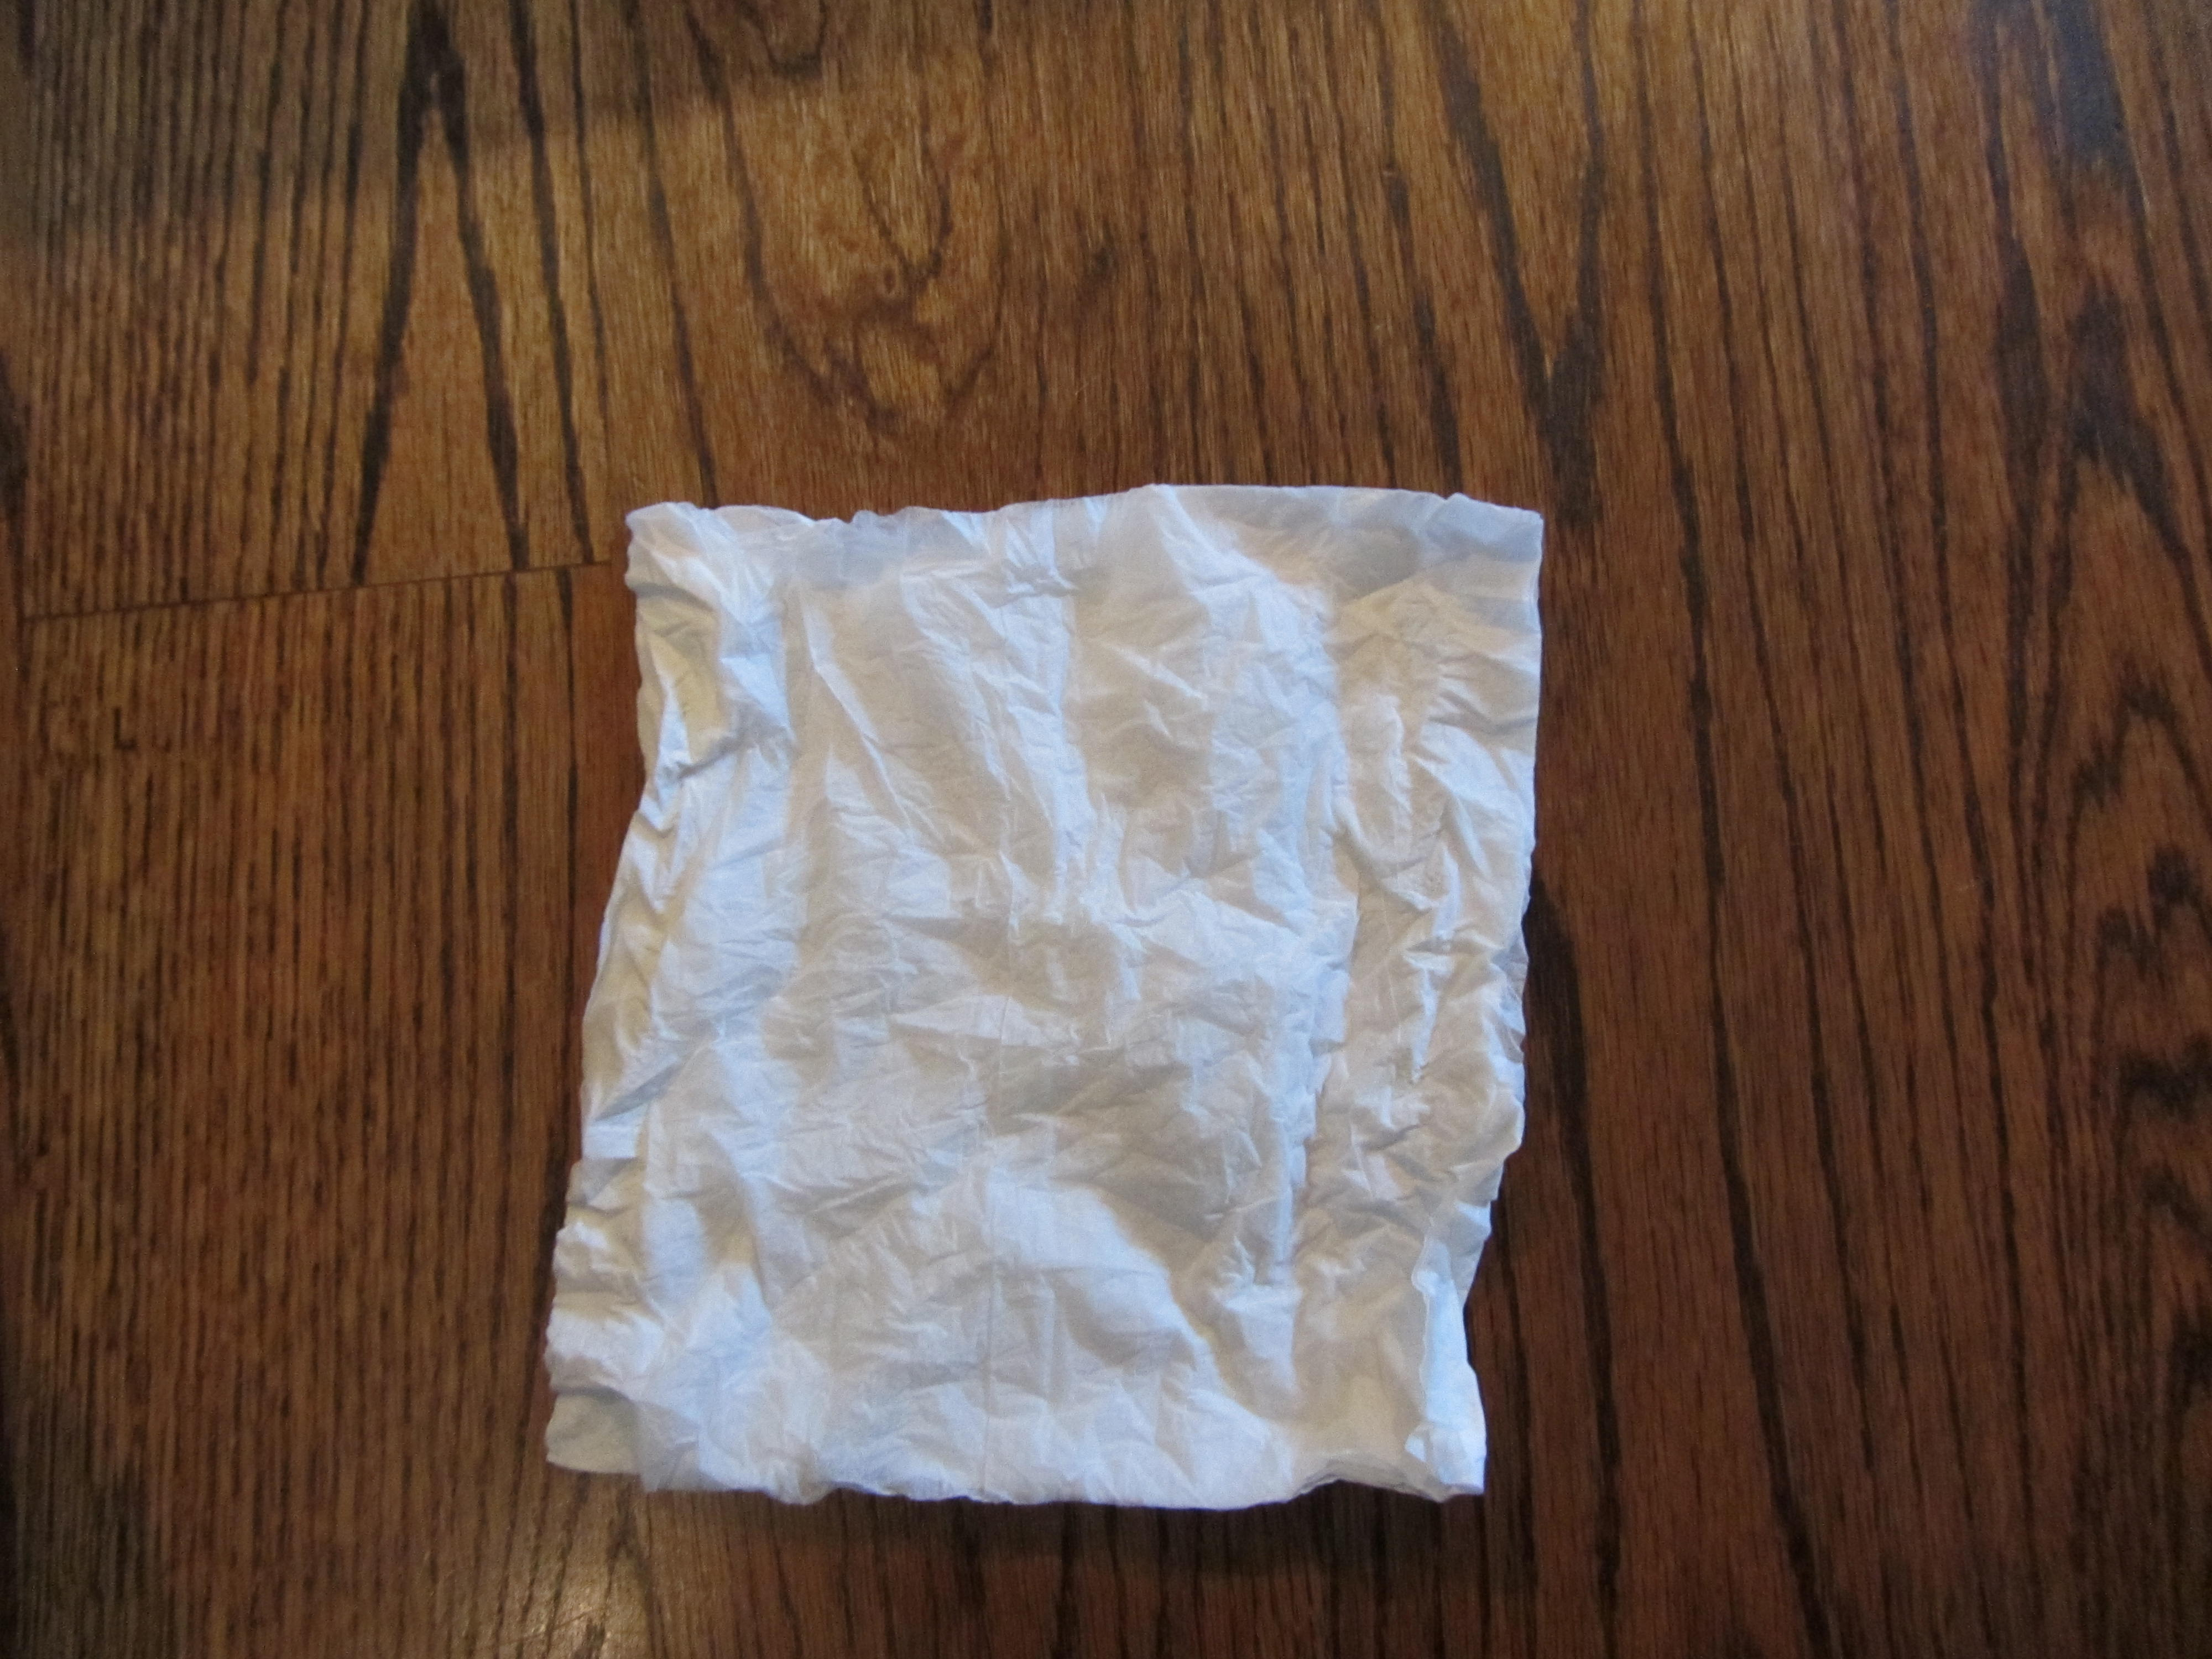tissue: (517, 502, 1555, 1516)
